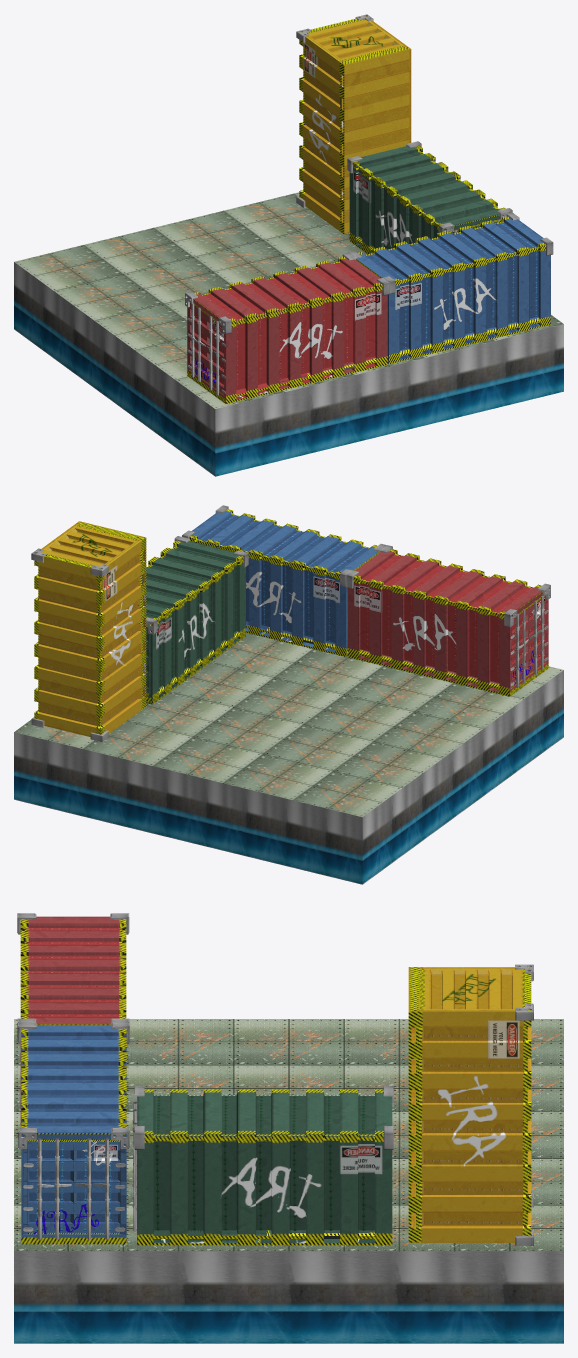
The model's file is tile L shape(1).fbx.
The picture shows the model from 3 angles, top to bottom: view 1: azimuth 30°, elevation 25°; view 2: azimuth 150°, elevation 25°; view 3: azimuth 270°, elevation 25°; orthographic projection. The views are drawn at different scales.
Visible parts, largest first — view 1: Cube, Cube.001, Cube.002, Cube.004, Cube.005; view 2: Cube, Cube.001, Cube.004, Cube.002, Cube.005; view 3: Cube, Cube.005, Cube.004, Cube.002, Cube.001.
Boxes of the visible parts, x1,y1,x2,y2 form: Cube: (14, 192, 563, 476); Cube.001: (185, 252, 389, 403); Cube.002: (349, 212, 553, 363); Cube.004: (296, 14, 411, 234); Cube.005: (347, 141, 512, 254); Cube: (14, 632, 563, 884); Cube.001: (346, 545, 550, 696); Cube.004: (31, 521, 146, 741); Cube.002: (182, 505, 386, 656); Cube.005: (146, 536, 248, 704); Cube: (14, 1019, 563, 1343); Cube.005: (132, 1086, 393, 1245); Cube.004: (408, 964, 533, 1245); Cube.002: (18, 1022, 129, 1244); Cube.001: (17, 913, 129, 1127).
Size of the model in its own units: 20000 by 13151 by 20000.
